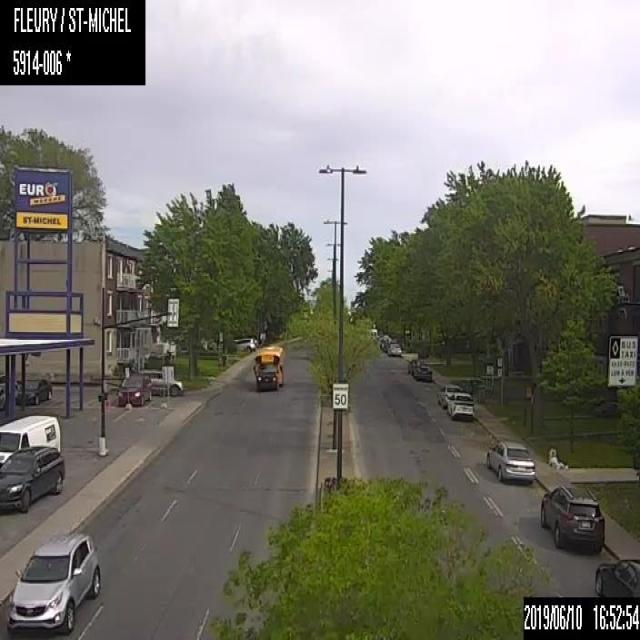bus: (252, 341, 284, 391)
vehicle: (4, 529, 102, 639), (538, 483, 605, 552), (0, 444, 65, 512), (0, 412, 61, 456), (484, 436, 536, 483), (593, 555, 639, 596), (13, 373, 52, 407), (115, 371, 150, 406), (146, 367, 183, 397), (446, 391, 473, 419), (436, 382, 464, 408), (406, 356, 434, 381), (233, 336, 256, 352), (388, 342, 403, 356)
